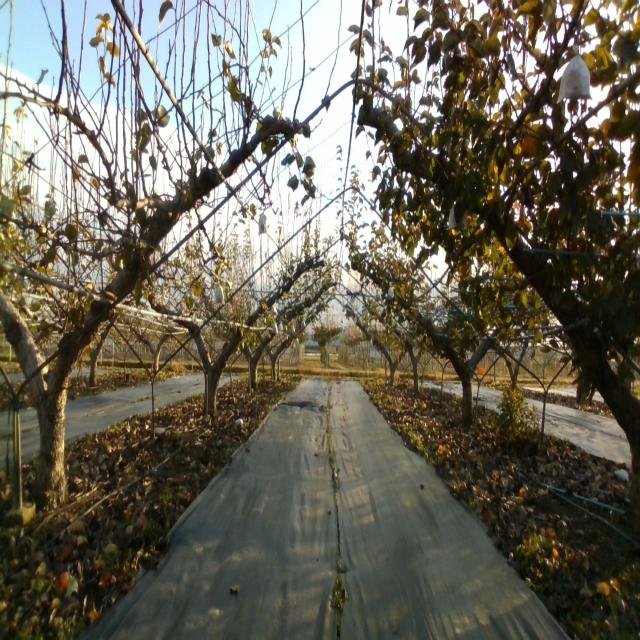pearbags: (556, 44, 592, 106), (214, 282, 225, 305)
